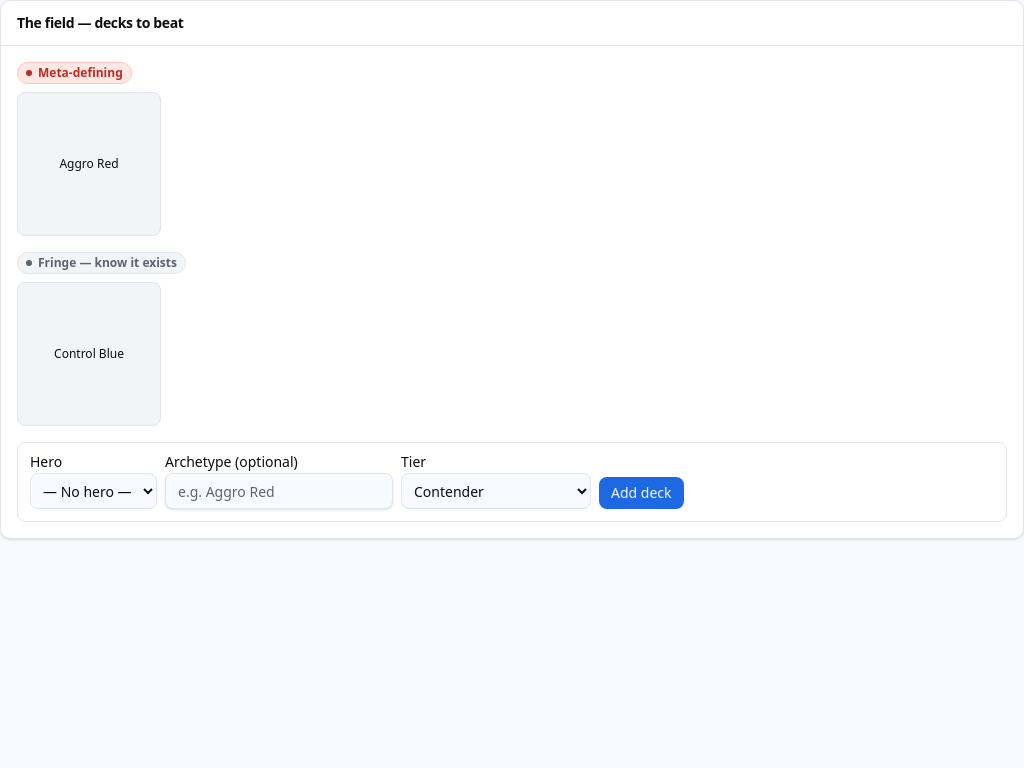
Test case: MetaDeckEntryBuilder › opens the detail dialog with the entry's notes when its square is clicked
Click the button with aria-label "Details for Aggro Red": (89, 164) [17,92,161,236]
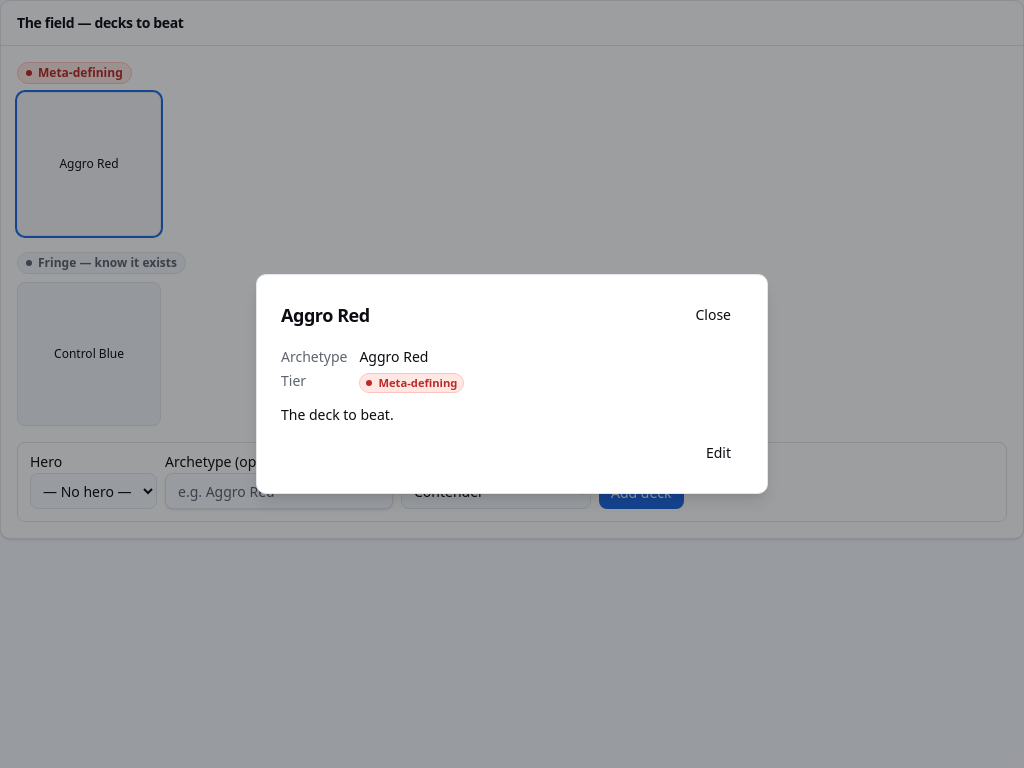
Result: the text "The deck to beat." is shown at [281,405,394,424]
